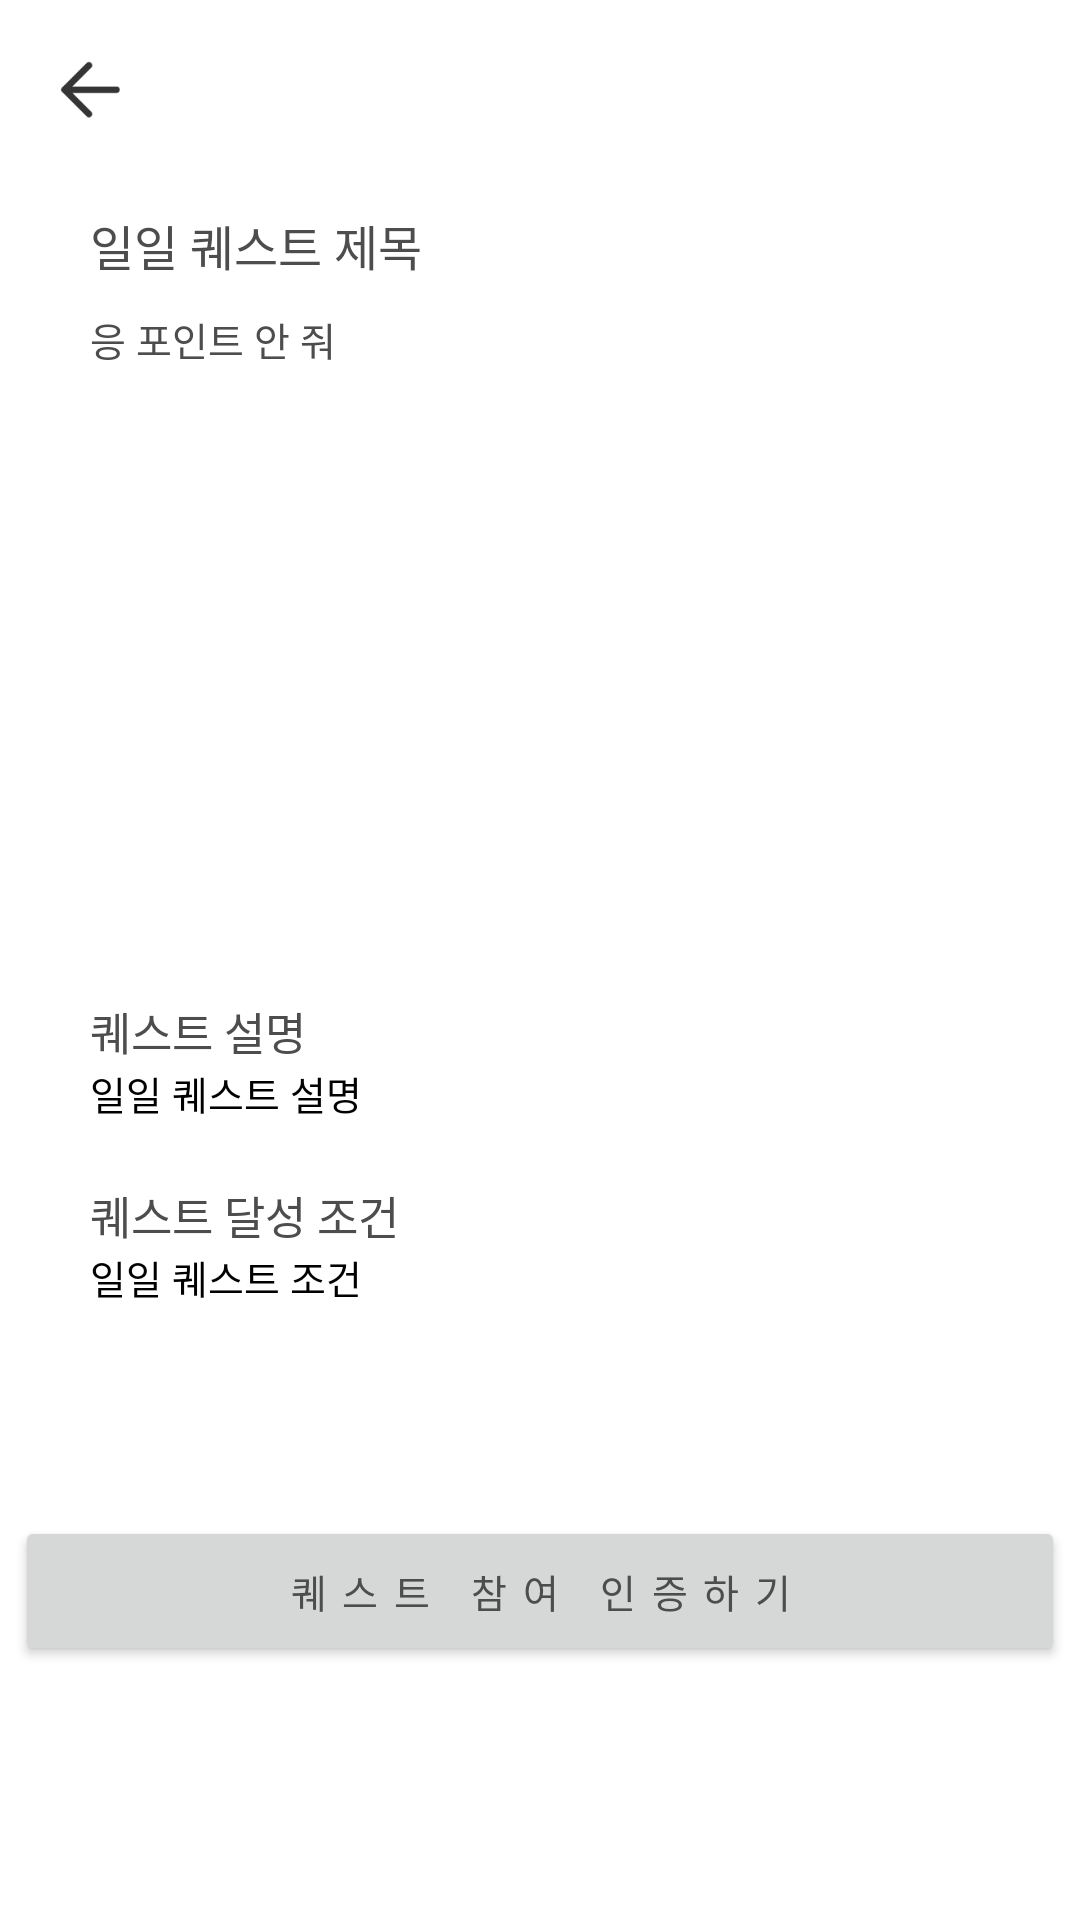

Point at icon controls on the screen. Image size 1080x1920, points as (x=x, y=y).
backbutton: (x=90, y=89)
